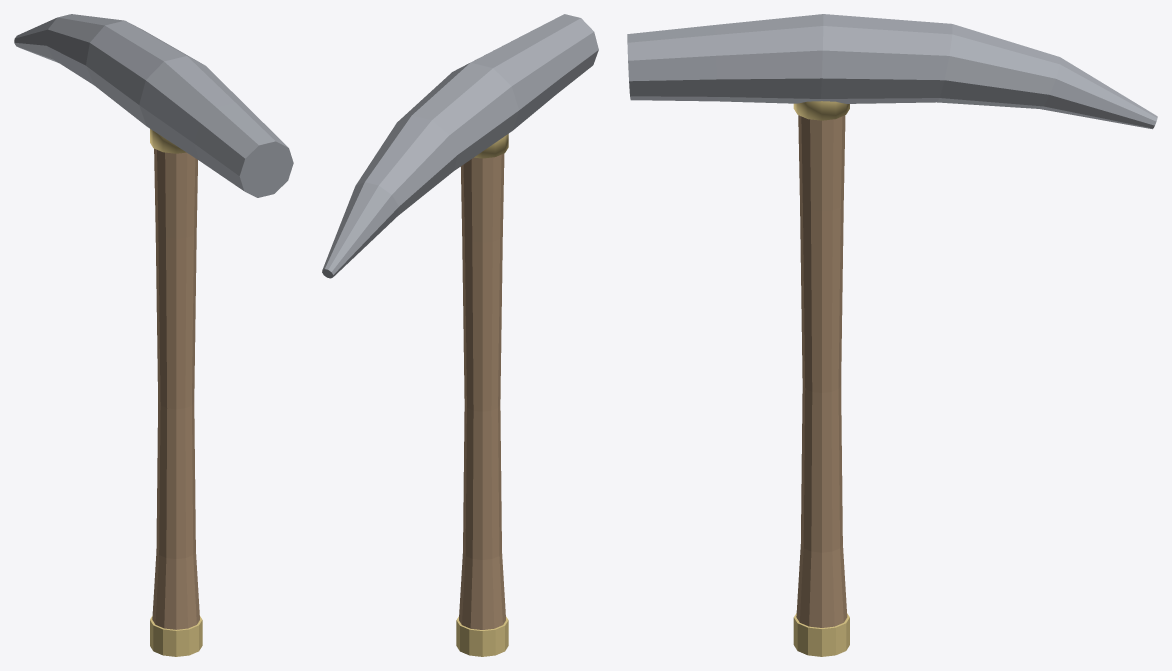
Rendered from prospector_pickaxe.glb.
3 renders of one model, left to right at view 1: azimuth 30°, elevation 25°; view 2: azimuth 150°, elevation 25°; view 3: azimuth 270°, elevation 25°, orthographic. The views are drawn at different scales.
Visible parts, largest first — view 1: PickaxeHead, ProspectorPickaxe, Cylinder, Cylinder.001; view 2: PickaxeHead, ProspectorPickaxe, Cylinder; view 3: PickaxeHead, ProspectorPickaxe, Cylinder, Cylinder.001.
Part boxes in pixels (left/top/right/bottom): PickaxeHead: left=14, top=14, right=293, bottom=197; ProspectorPickaxe: left=152, top=148, right=199, bottom=629; Cylinder: left=150, top=616, right=202, bottom=656; Cylinder.001: left=150, top=129, right=186, bottom=153; PickaxeHead: left=322, top=14, right=598, bottom=278; ProspectorPickaxe: left=459, top=153, right=505, bottom=629; Cylinder: left=456, top=616, right=508, bottom=656; PickaxeHead: left=627, top=14, right=1157, bottom=129; ProspectorPickaxe: left=796, top=115, right=847, bottom=627; Cylinder: left=793, top=613, right=849, bottom=656; Cylinder.001: left=793, top=101, right=849, bottom=120.
Bounding box in the file's own units: 0.104 × 0.7869 × 0.6047.
